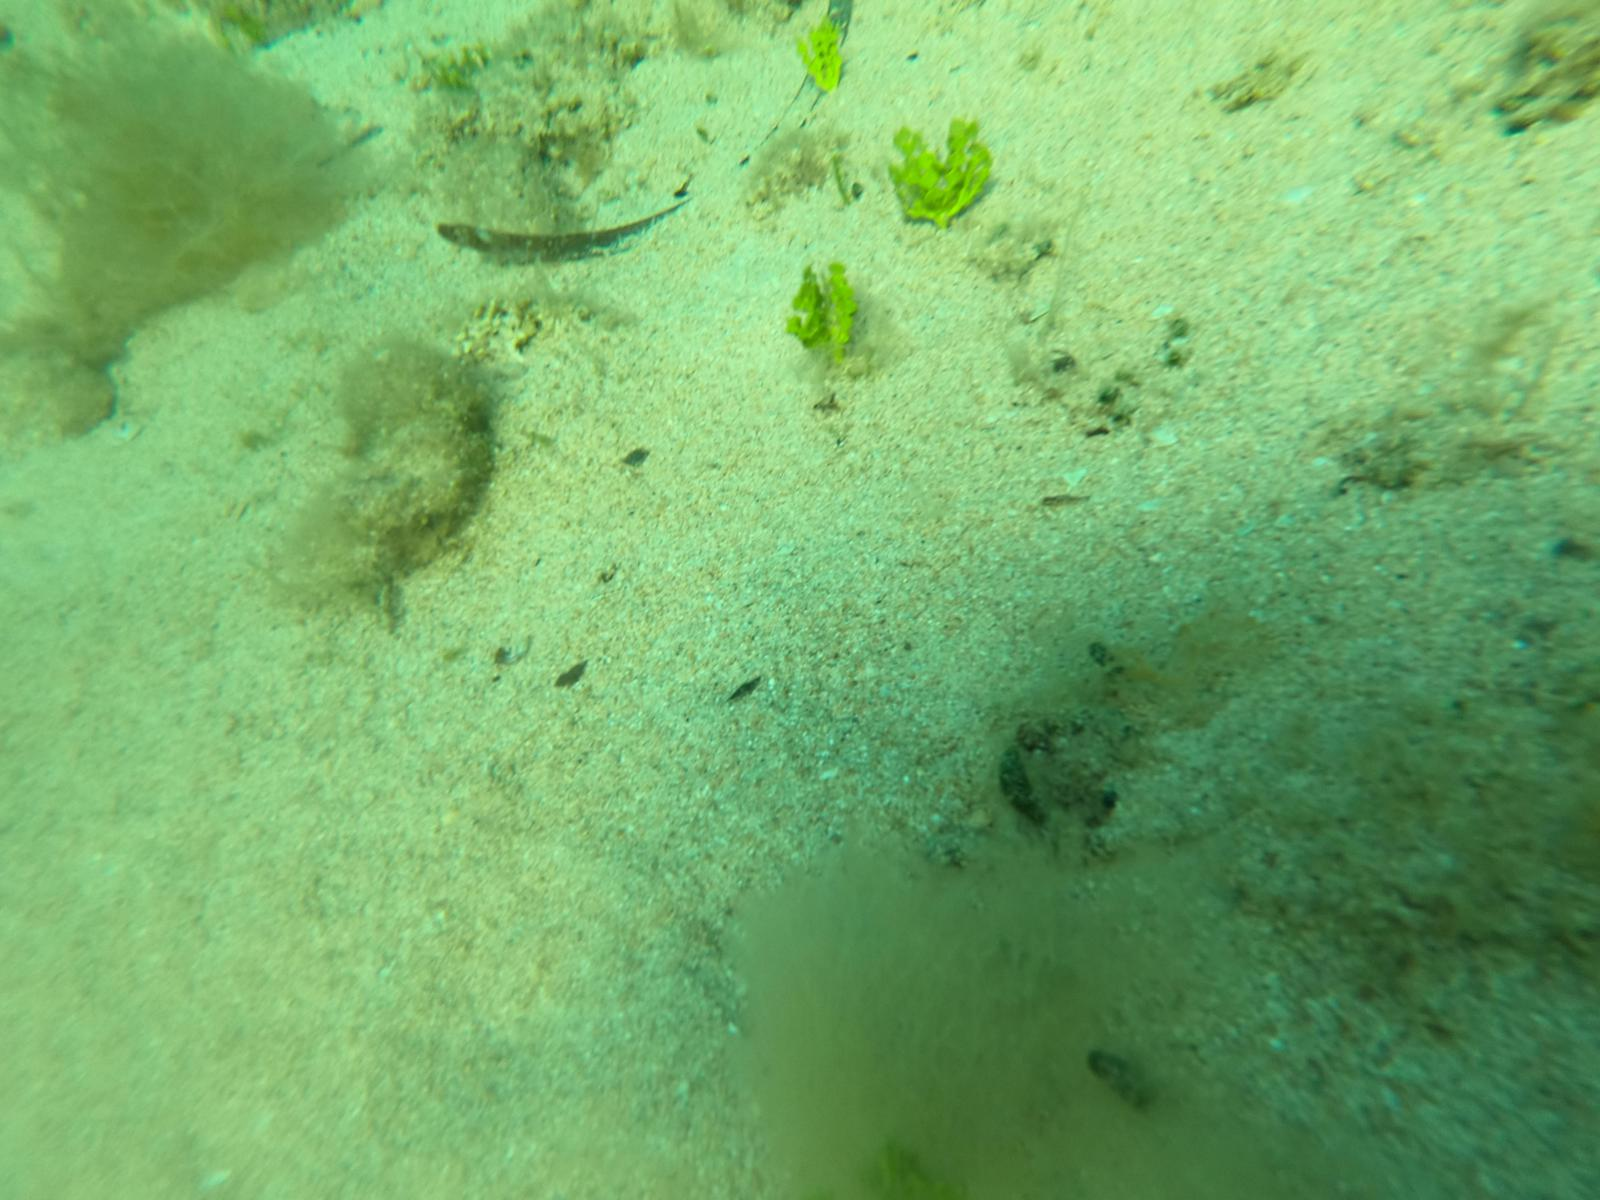halimeda: (884, 118, 998, 234), (786, 263, 860, 363), (795, 20, 850, 98)
